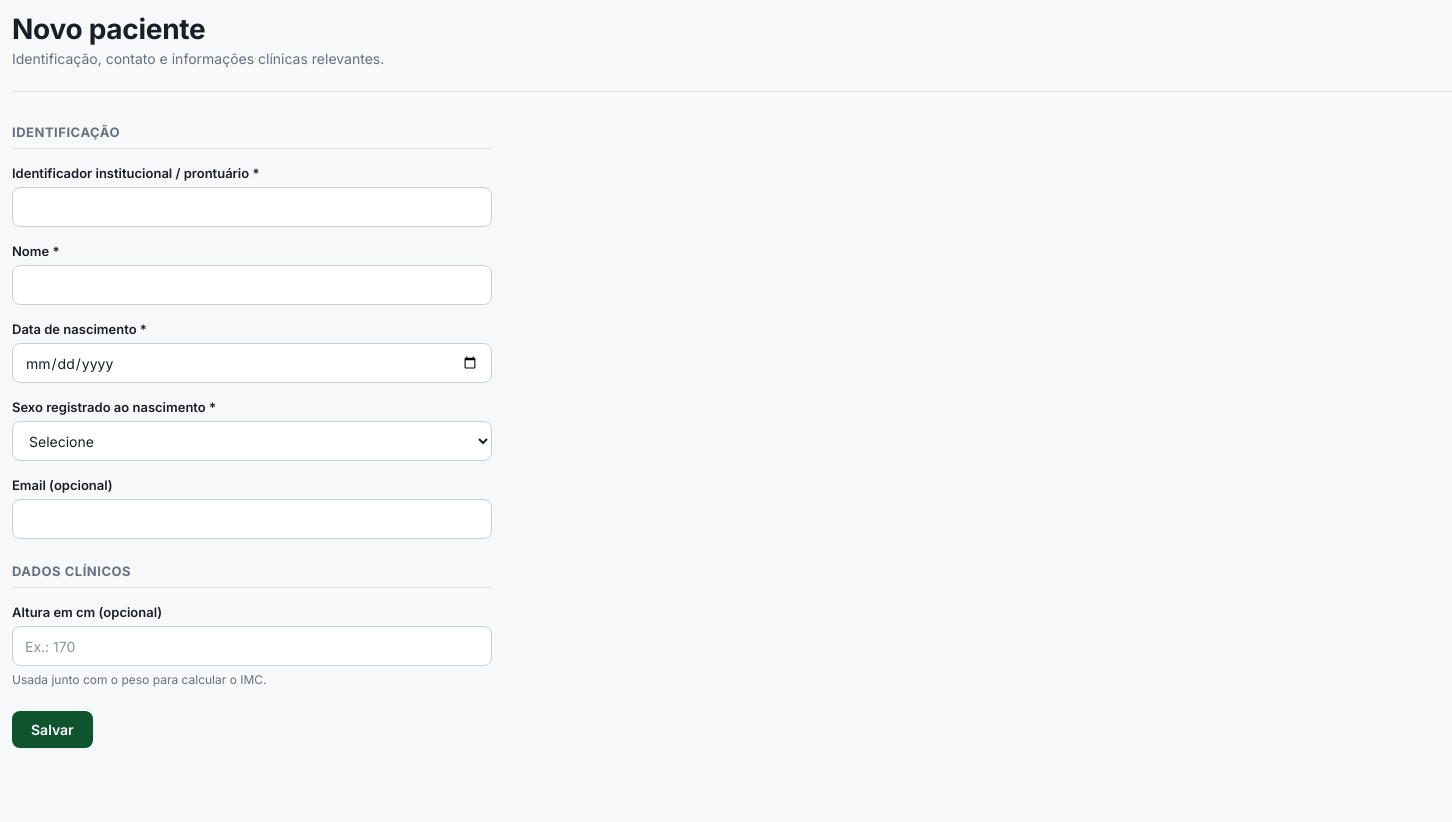
Scenario: PatientCreatePage › mapeia field_errors da API para os campos do formulario
Type "MRN-DUP" into the field labelled "Identificador institucional / prontuário *" at (252, 207), box [12,187,492,227]
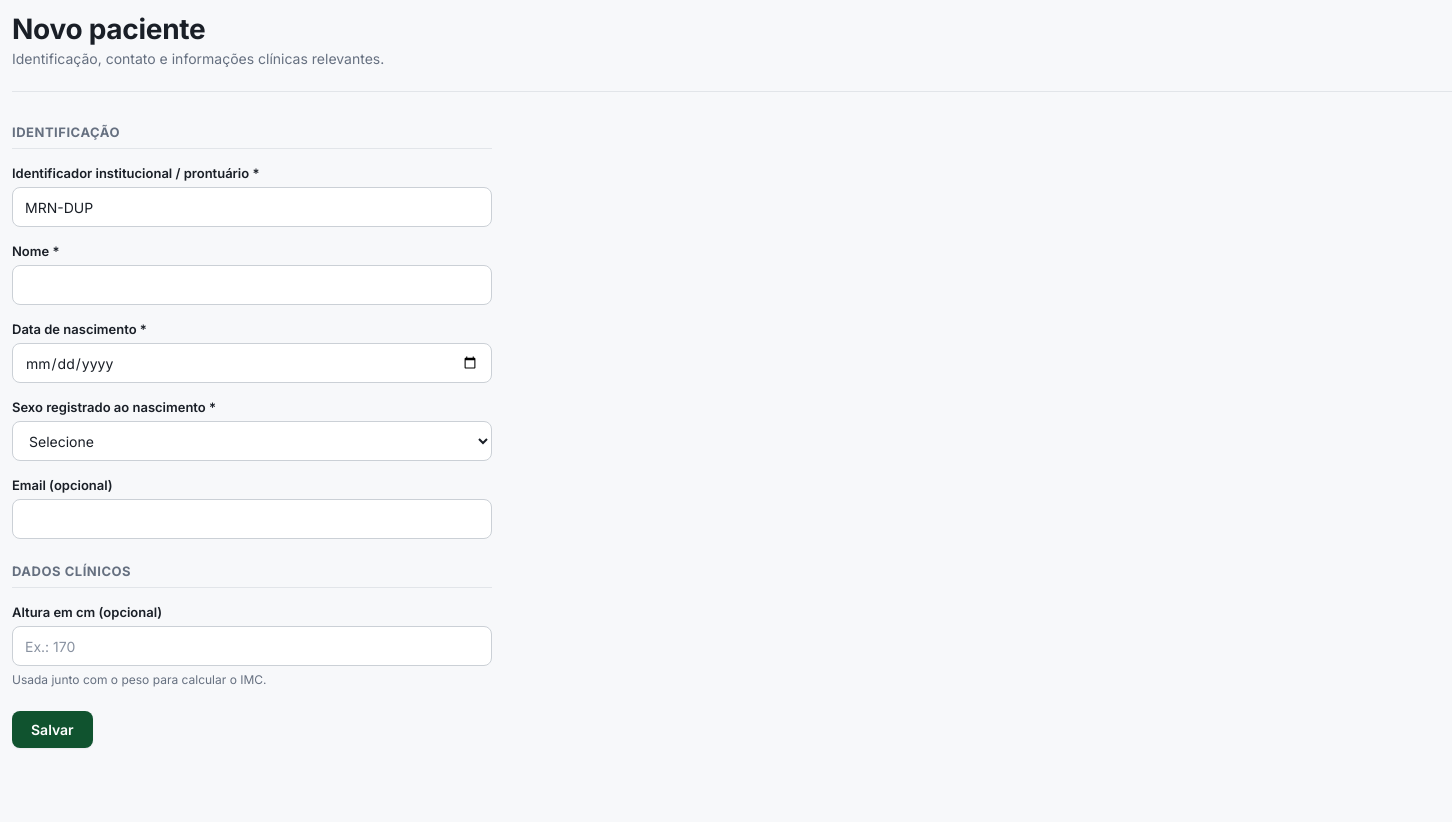
Type "Paciente Teste" into the field labelled "Nome *" at (252, 285), box [12,265,492,305]
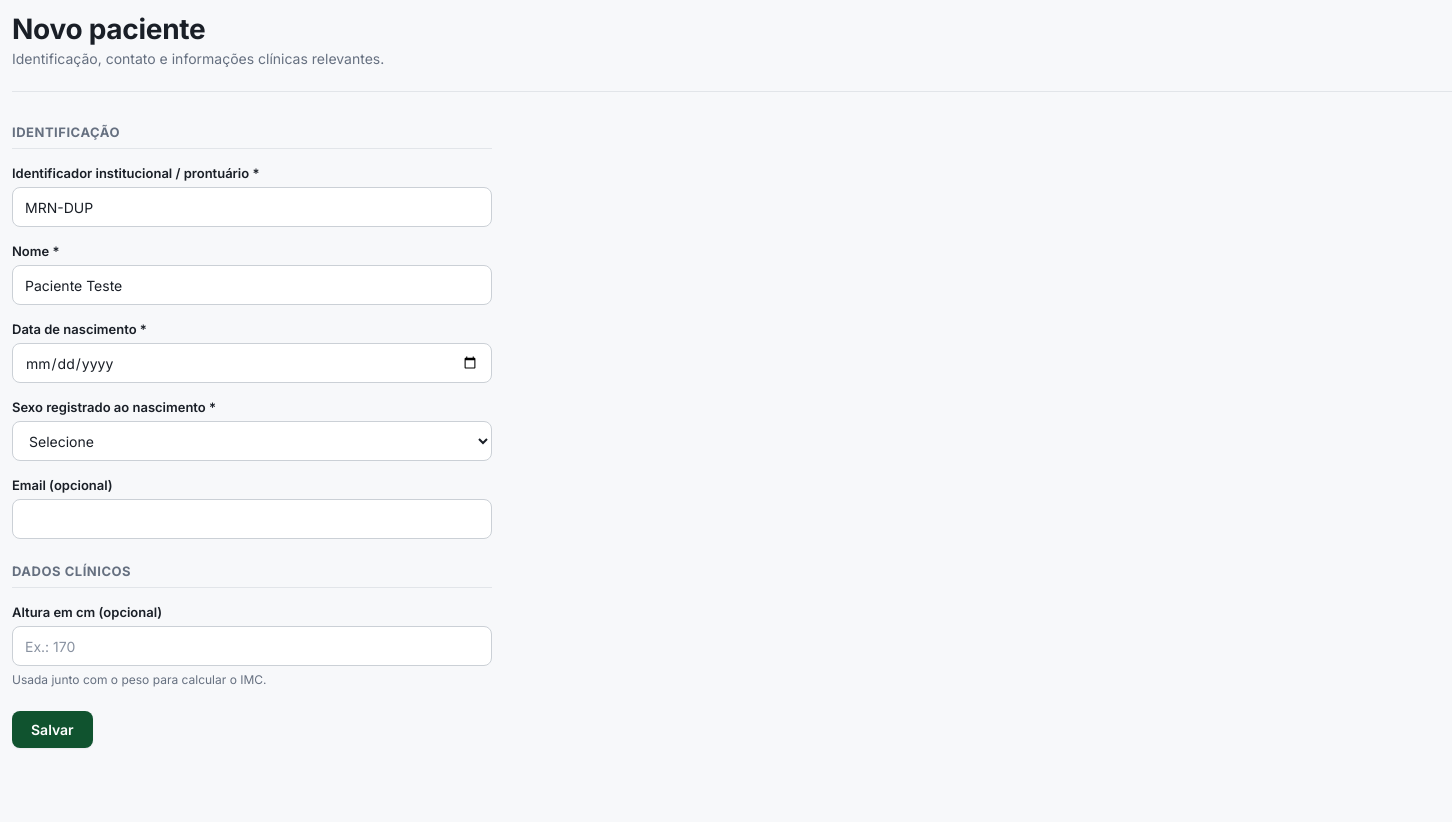
Type "1990-01-01" into the date field labelled "Data de nascimento *" at (252, 363), box [12,343,492,383]
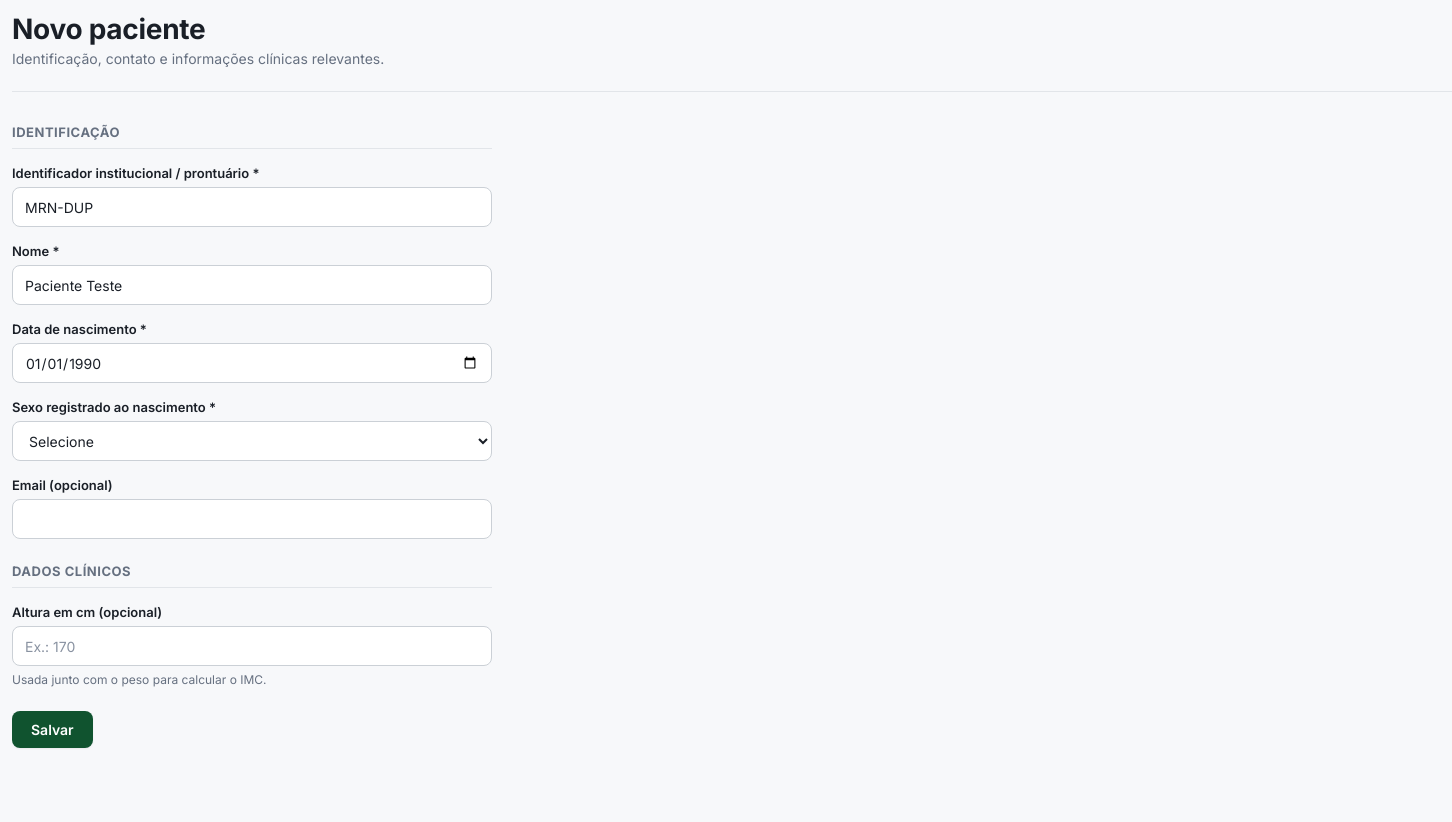
Select "Feminino" in the dropdown labelled "Sexo registrado ao nascimento *" at (252, 441), box [12,421,492,461]
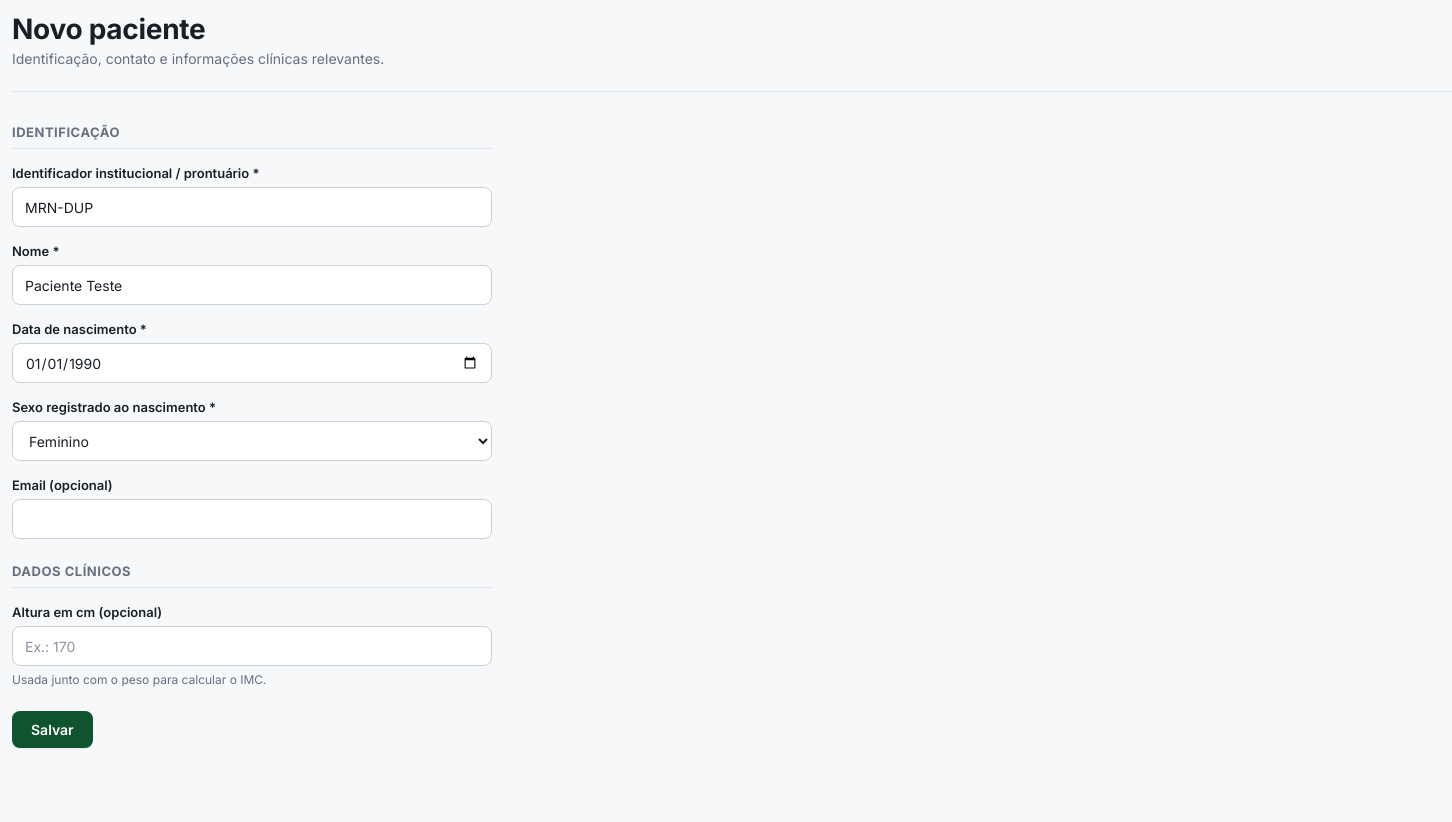
Click the button "Salvar" at (52, 730), box [12,711,93,748]
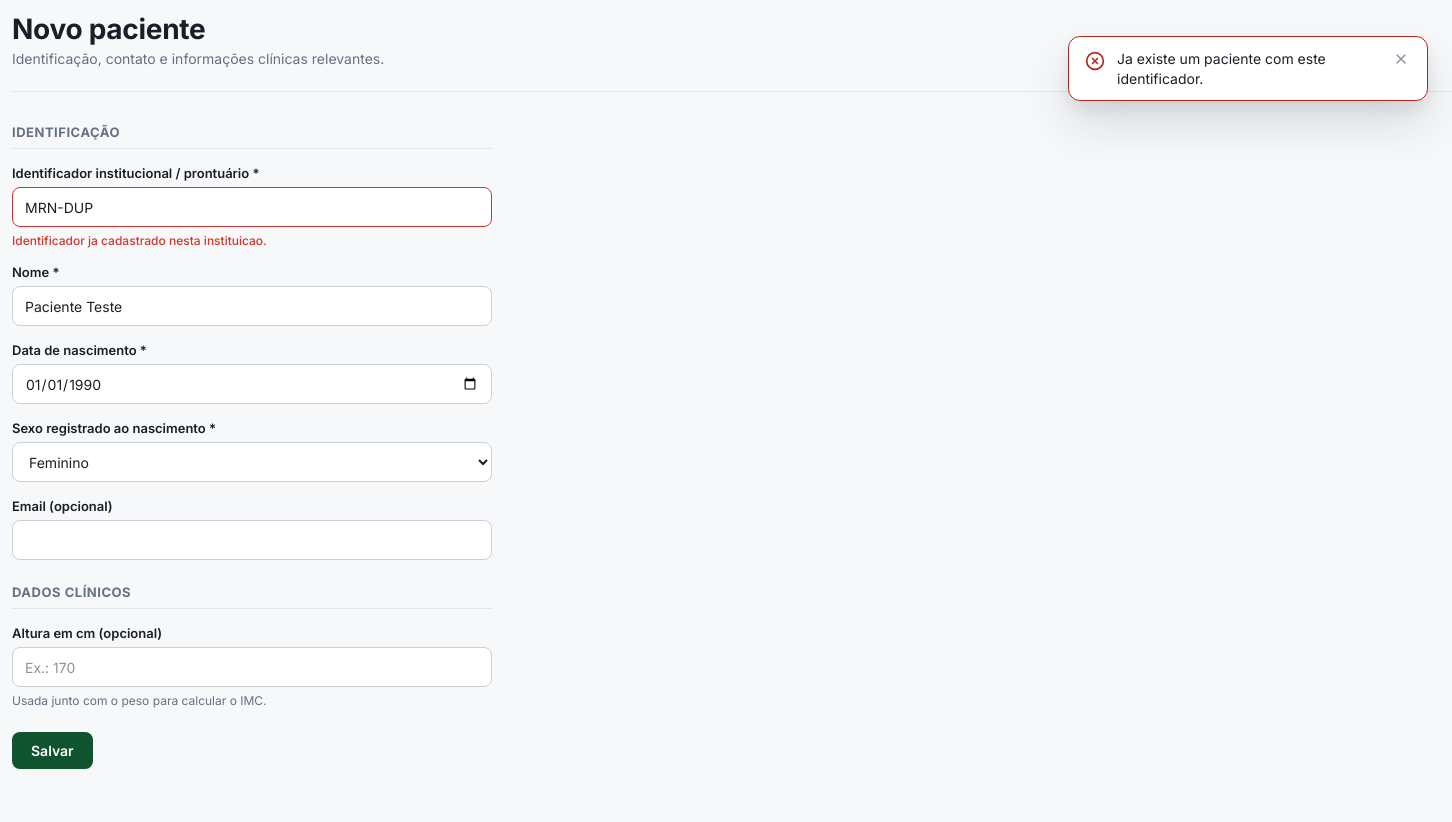
Check: the text "Identificador ja cadastrado nesta instituicao." is shown, box [12,233,267,248]
